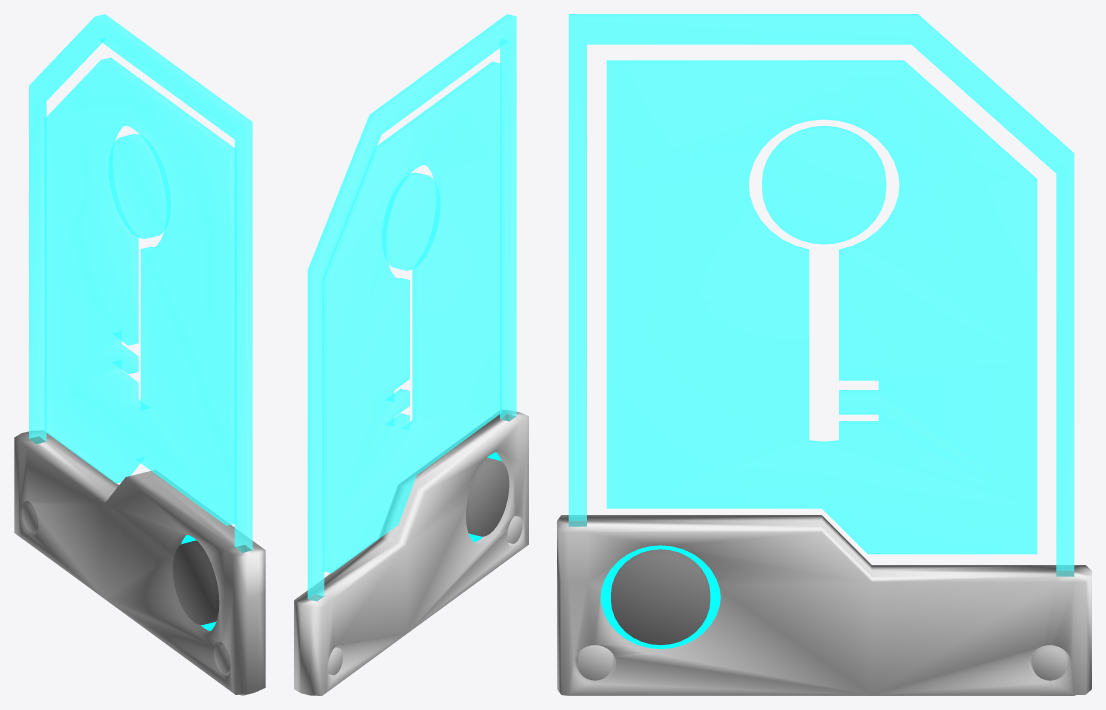
The model's file is key_card.glb.
The picture shows the model from 3 angles, left to right: view 1: azimuth 30°, elevation 25°; view 2: azimuth 150°, elevation 25°; view 3: azimuth 270°, elevation 25°; orthographic projection. The views are drawn at different scales.
Parts seen in each view (by area): view 1: Plane_Hologram_0.001, Plane_Metal_0.001, Plane_Button_0.001; view 2: Plane_Hologram_0.001, Plane_Metal_0.001, Plane_Button_0.001; view 3: Plane_Hologram_0.001, Plane_Metal_0.001, Plane_Button_0.001, Plane_Light_0.001.
Part boxes in pixels (box(x1,y1,x2,y2)): Plane_Hologram_0.001: box(29, 14, 252, 552); Plane_Metal_0.001: box(14, 430, 265, 695); Plane_Button_0.001: box(172, 540, 219, 625); Plane_Hologram_0.001: box(307, 14, 516, 601); Plane_Metal_0.001: box(294, 410, 528, 695); Plane_Button_0.001: box(466, 458, 509, 536); Plane_Hologram_0.001: box(568, 14, 1074, 576); Plane_Metal_0.001: box(557, 515, 1091, 695); Plane_Button_0.001: box(611, 549, 710, 645); Plane_Light_0.001: box(600, 545, 720, 648).
Bounding box in the file's own units: 0.0366 × 0.6655 × 0.4772.
